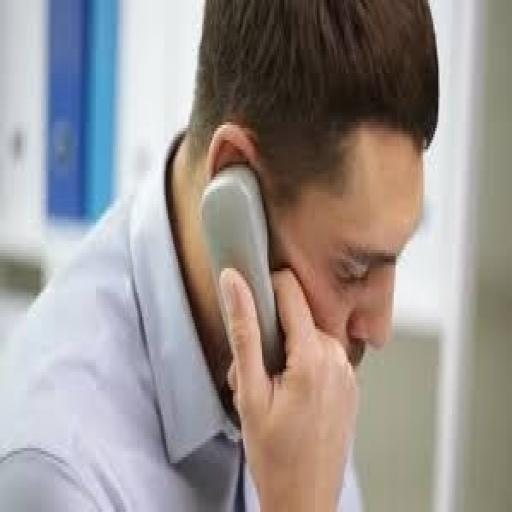calling: (2, 0, 440, 509)
